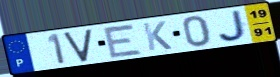0: (181, 14, 213, 48)
1: (46, 32, 68, 65)
E: (101, 23, 145, 59)
J: (216, 8, 250, 43)
K: (141, 20, 175, 52)
V: (62, 27, 94, 63)
